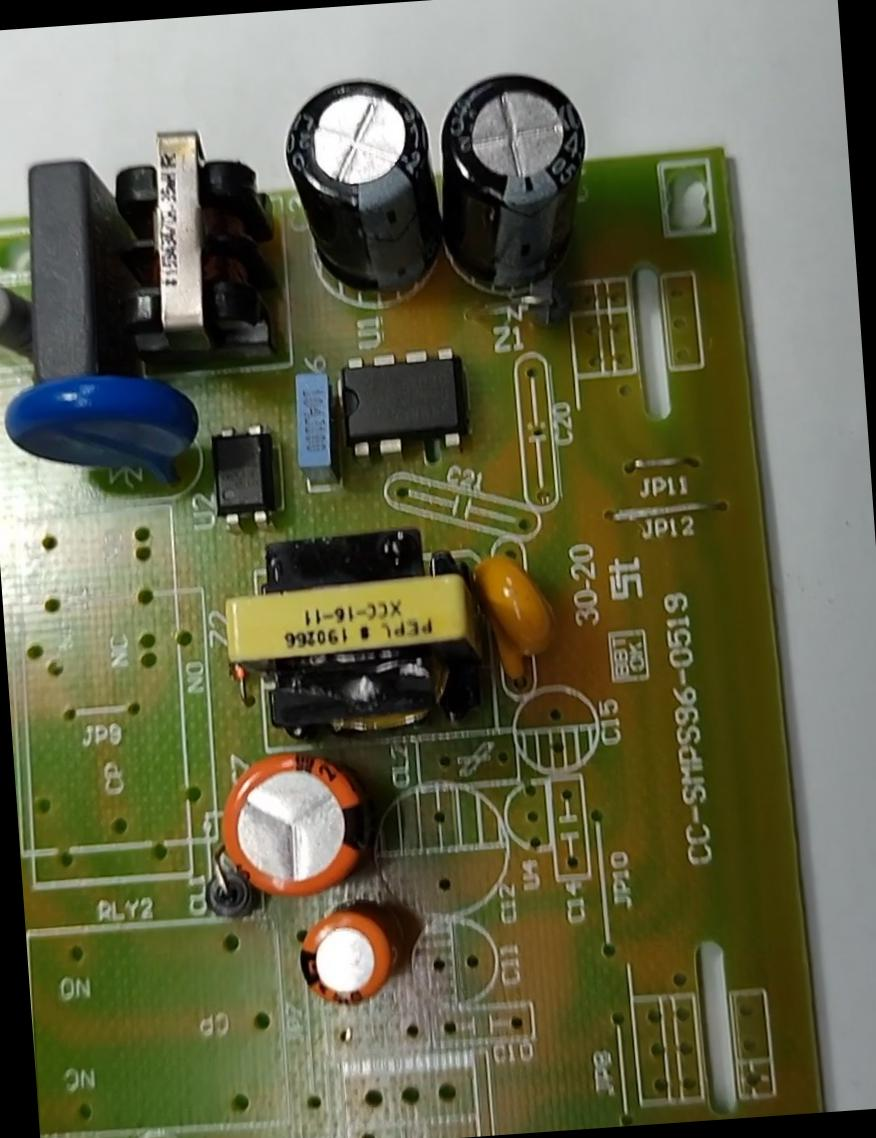Cap1: (204, 739, 382, 912)
Cap2: (283, 897, 419, 1019)
Cap3: (266, 69, 453, 317)
Cap4: (417, 64, 600, 322)
MOSFET: (330, 342, 474, 466)
Mov: (0, 363, 209, 509)
Resistor: (0, 269, 44, 373)
Transformer: (210, 520, 496, 746), (98, 115, 290, 374)
